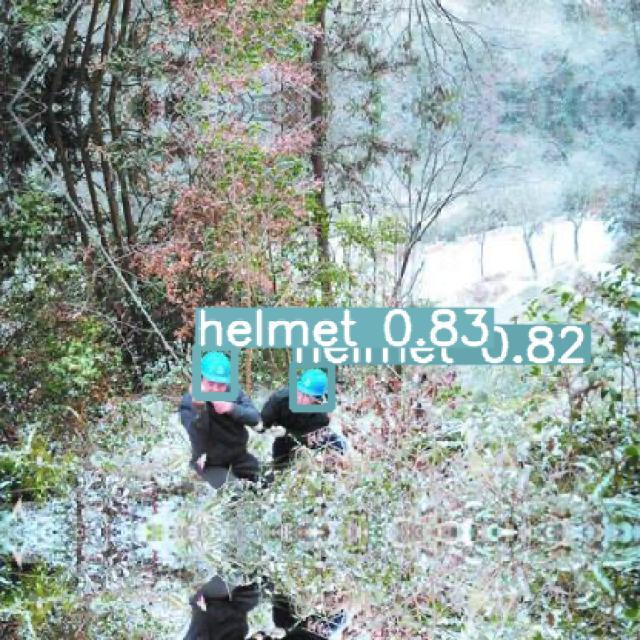helmet: (194, 343, 240, 399), (292, 363, 338, 412)
